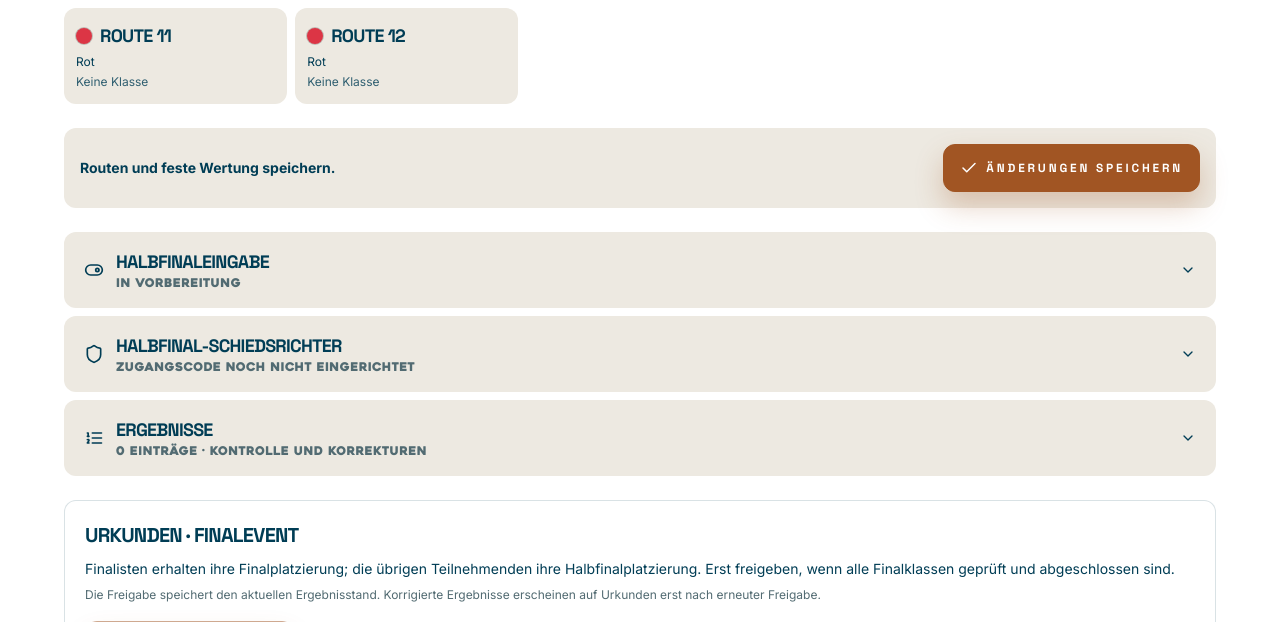
Test: competition admin › requires saving the fixed scoring before opening an old unconfigured draft
The image size is (1280, 622).
Later steps or results of the test are not shown.
(page scrolled)
Click the button "Halbfinaleingabe In Vorbereitung" at {"x": 193, "y": 262}, box [64,232,1216,308]
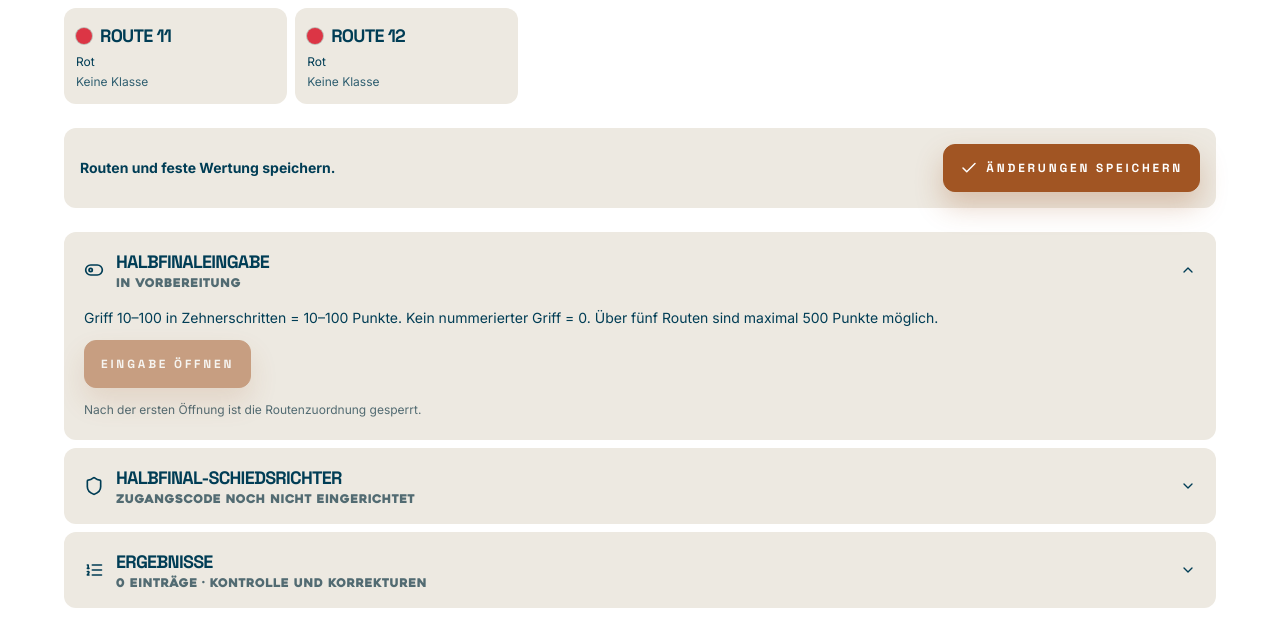
Expected: the button "Änderungen speichern" is enabled, [943,144,1200,192]
Expected: the button "Eingabe öffnen" is disabled, [84,340,251,388]
